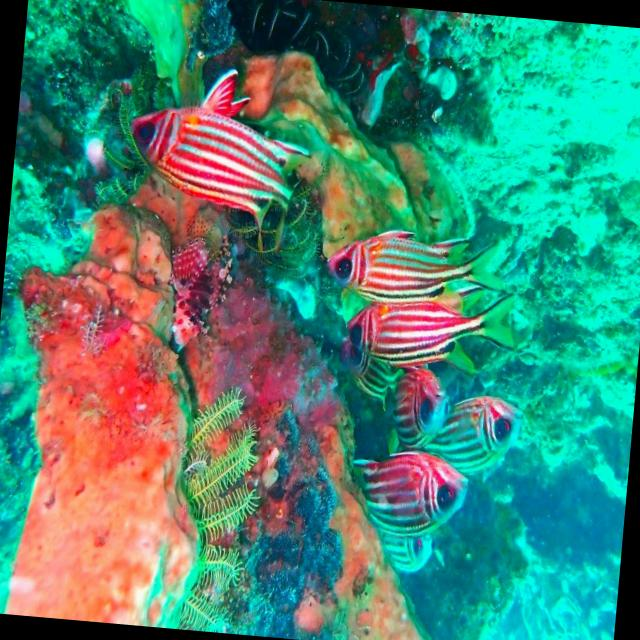Asker Baligi: (117, 58, 316, 254), (326, 210, 490, 314), (380, 352, 522, 458), (331, 291, 506, 372), (347, 439, 472, 541)
